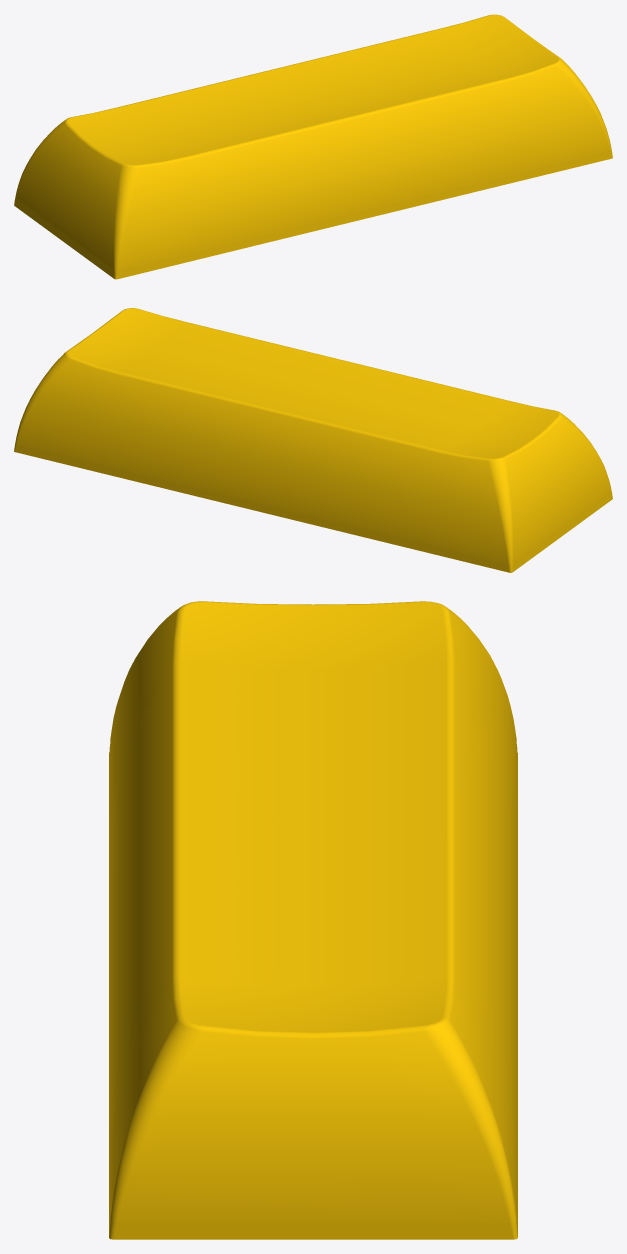
The picture shows the model from 3 angles, top to bottom: view 1: azimuth 30°, elevation 25°; view 2: azimuth 150°, elevation 25°; view 3: azimuth 270°, elevation 25°; orthographic projection. The views are drawn at different scales.
Visible parts, largest first — view 1: Body113; view 2: Body113; view 3: Body113.
Part boxes in pixels (x1,y1,x2,y2): Body113: (14,14,612,279); Body113: (14,308,612,572); Body113: (109,601,517,1239).
Size of the model in its own units: 51.56 by 9.04 by 18.31.
